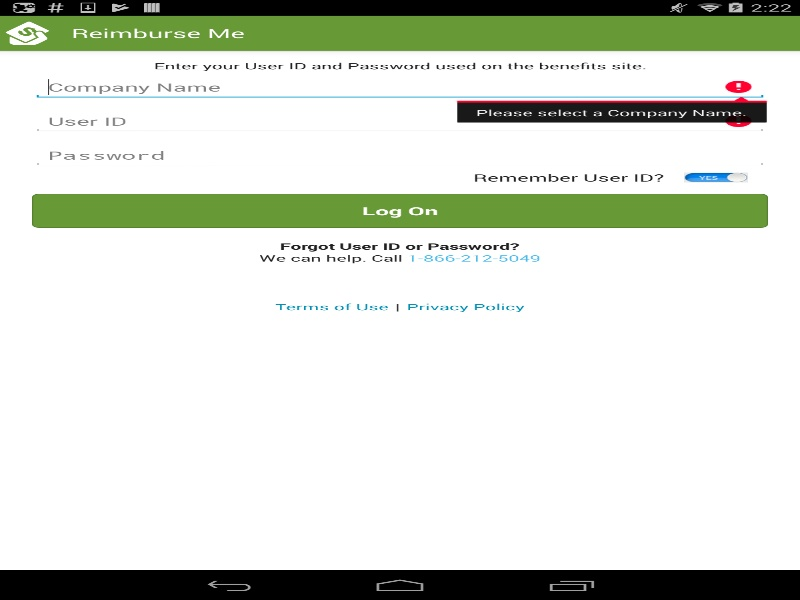Button: (32, 193, 768, 227)
Input: (32, 75, 768, 99), (32, 109, 768, 133), (32, 143, 768, 167)
